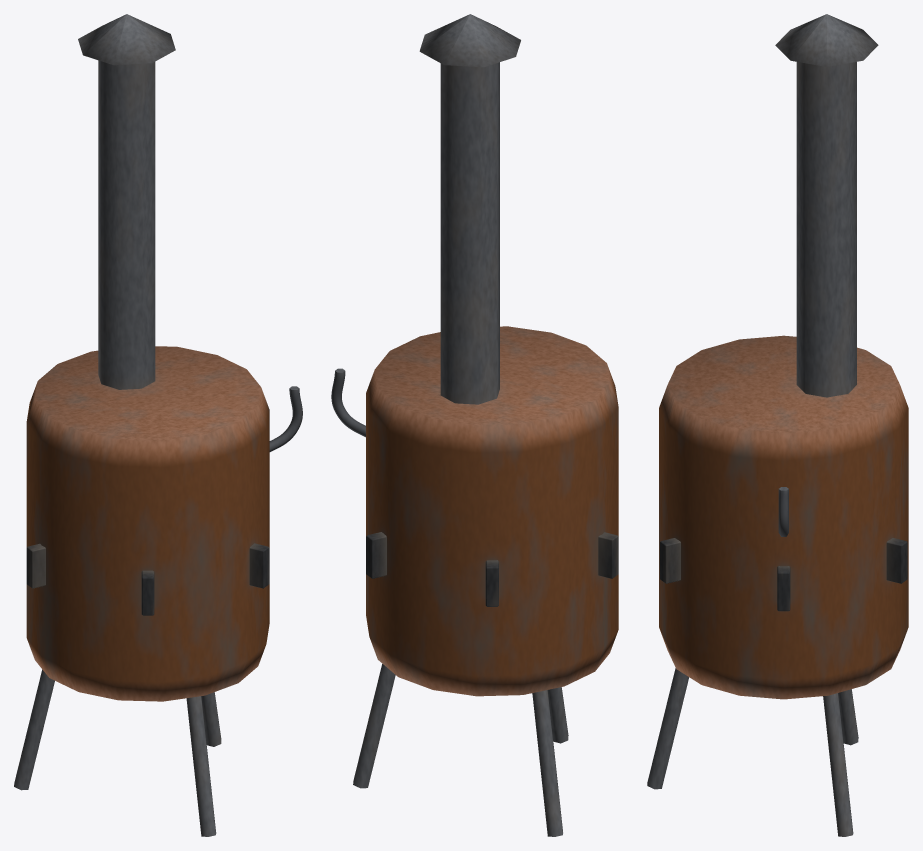
The model's file is huta_koksownik.glb.
The picture shows the model from 3 angles, left to right: view 1: azimuth 30°, elevation 25°; view 2: azimuth 150°, elevation 25°; view 3: azimuth 270°, elevation 25°; orthographic projection. The views are drawn at different scales.
Visible parts, largest first — view 1: Koksownik; view 2: Koksownik; view 3: Koksownik.
Part boxes in pixels (x1,y1,x2,y2): Koksownik: (14, 14, 302, 836); Koksownik: (331, 14, 618, 836); Koksownik: (647, 14, 908, 836).
Size of the model in its own units: 0.7448 by 1.98 by 0.6071.
1 material, 1 textured.
